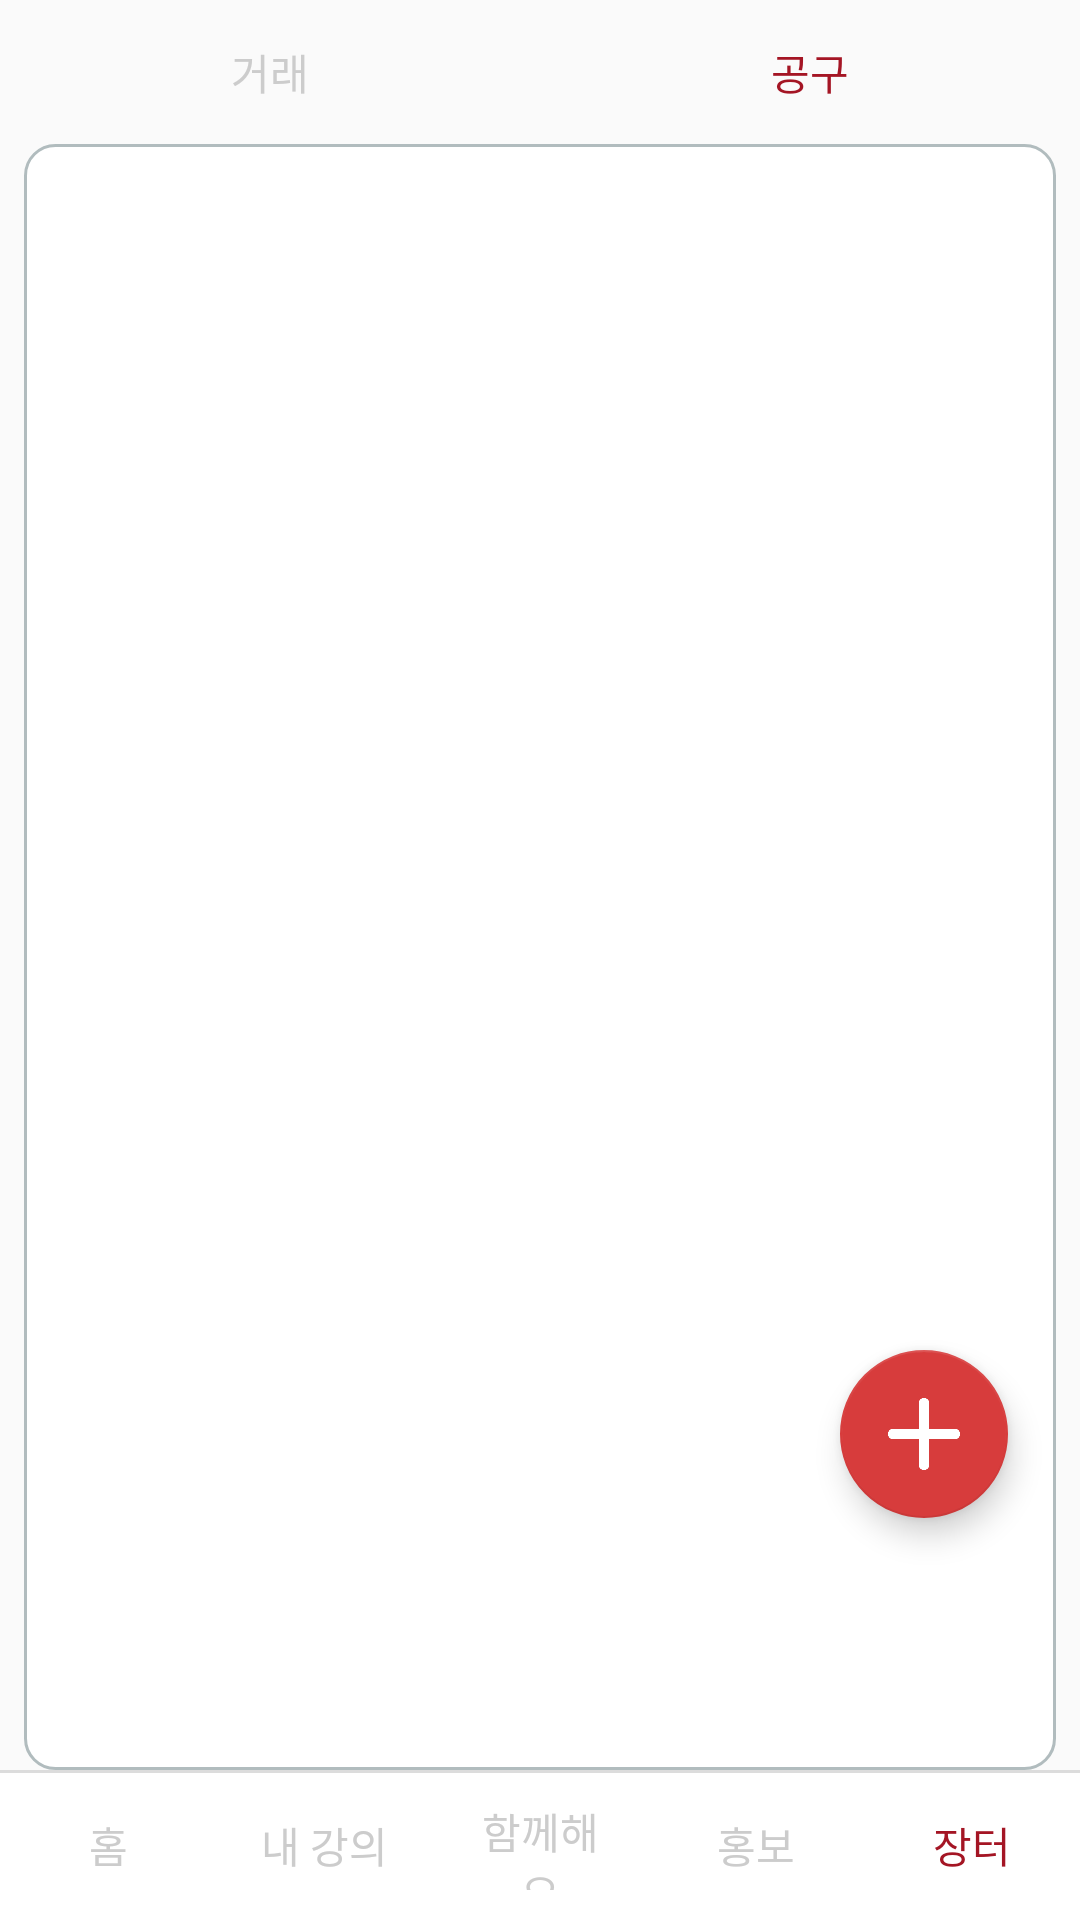

Point at icon controls on the screen. Image size 1080*1920, points as point (x, y).
add: point (924, 1434)
